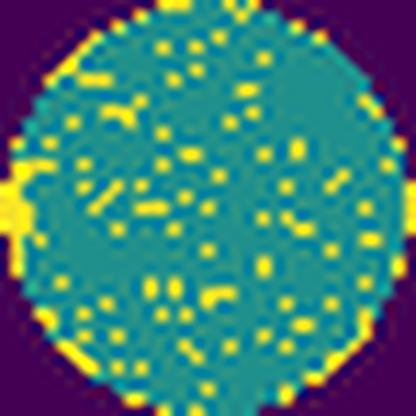Edge-Loc: (0, 155, 60, 281)
